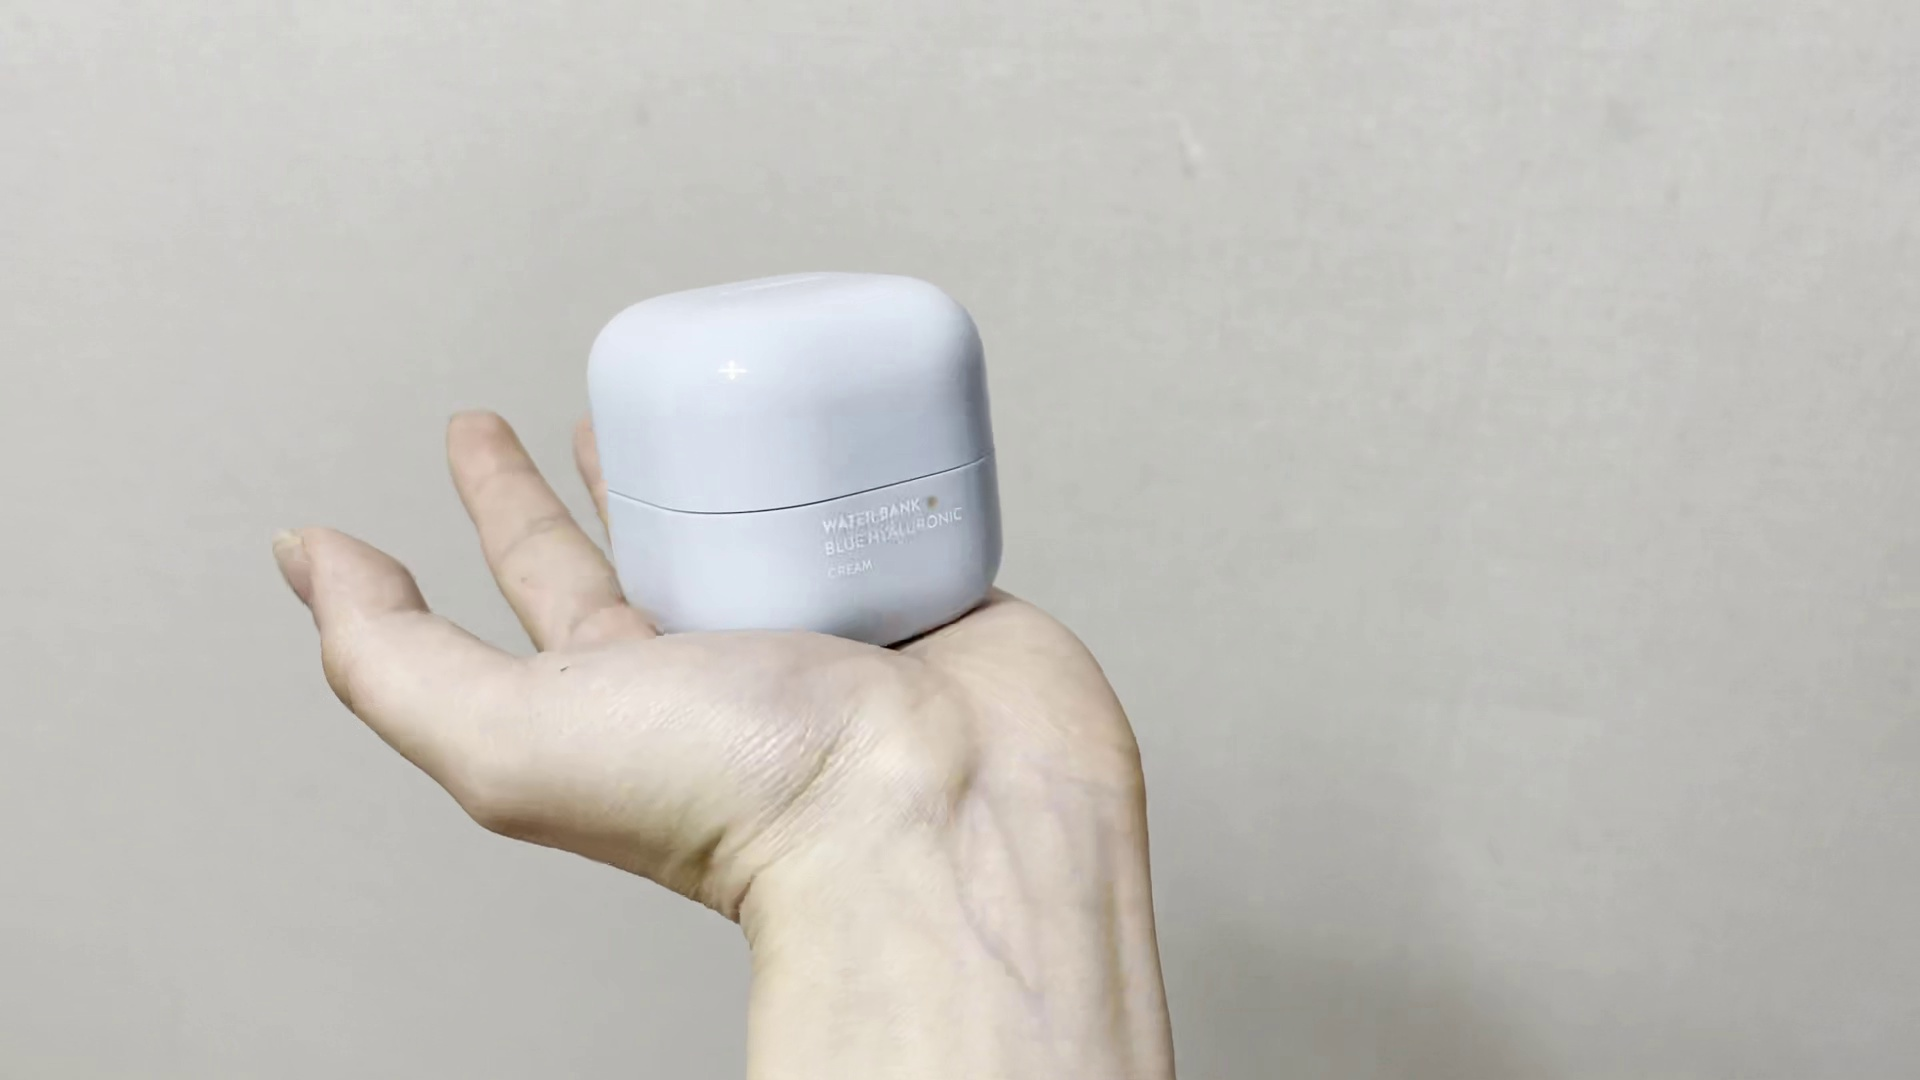cream: (587, 268, 1005, 645)
